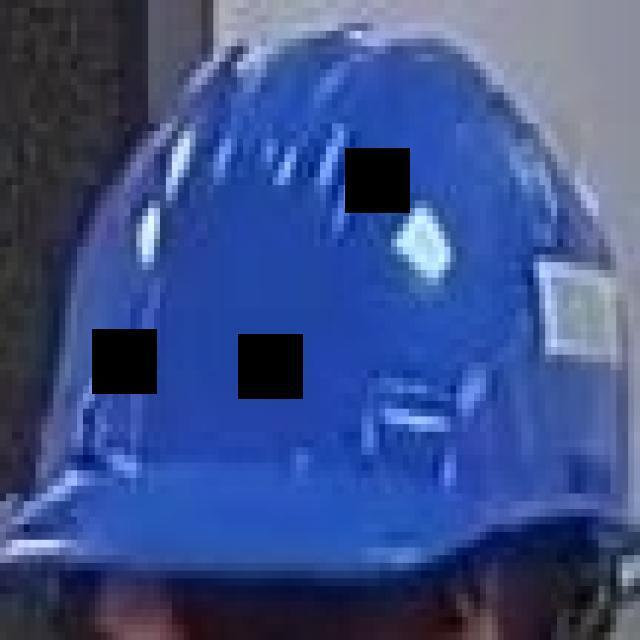blue helmet: (18, 32, 640, 584)
